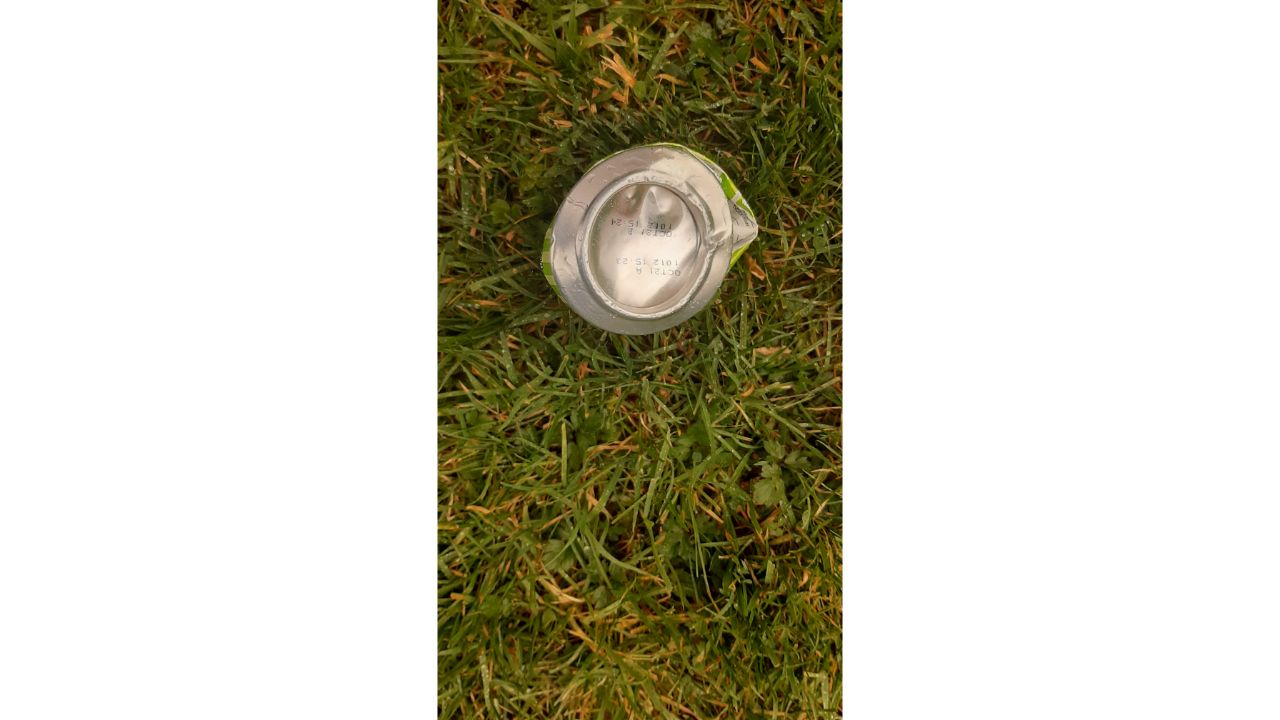Can: (539, 142, 758, 337)
